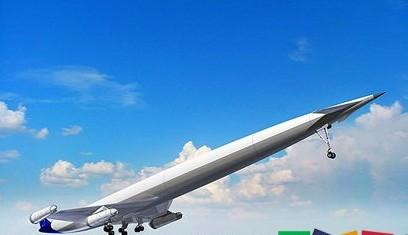airplane: (29, 88, 390, 234)
